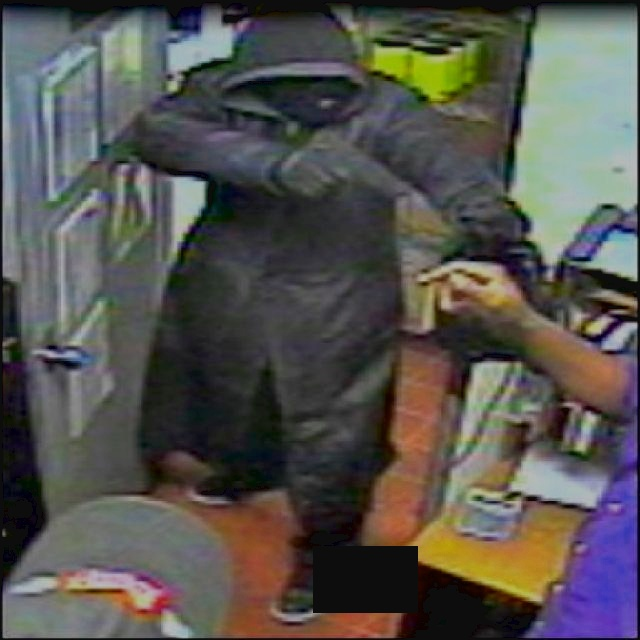gun: (277, 134, 422, 222)
